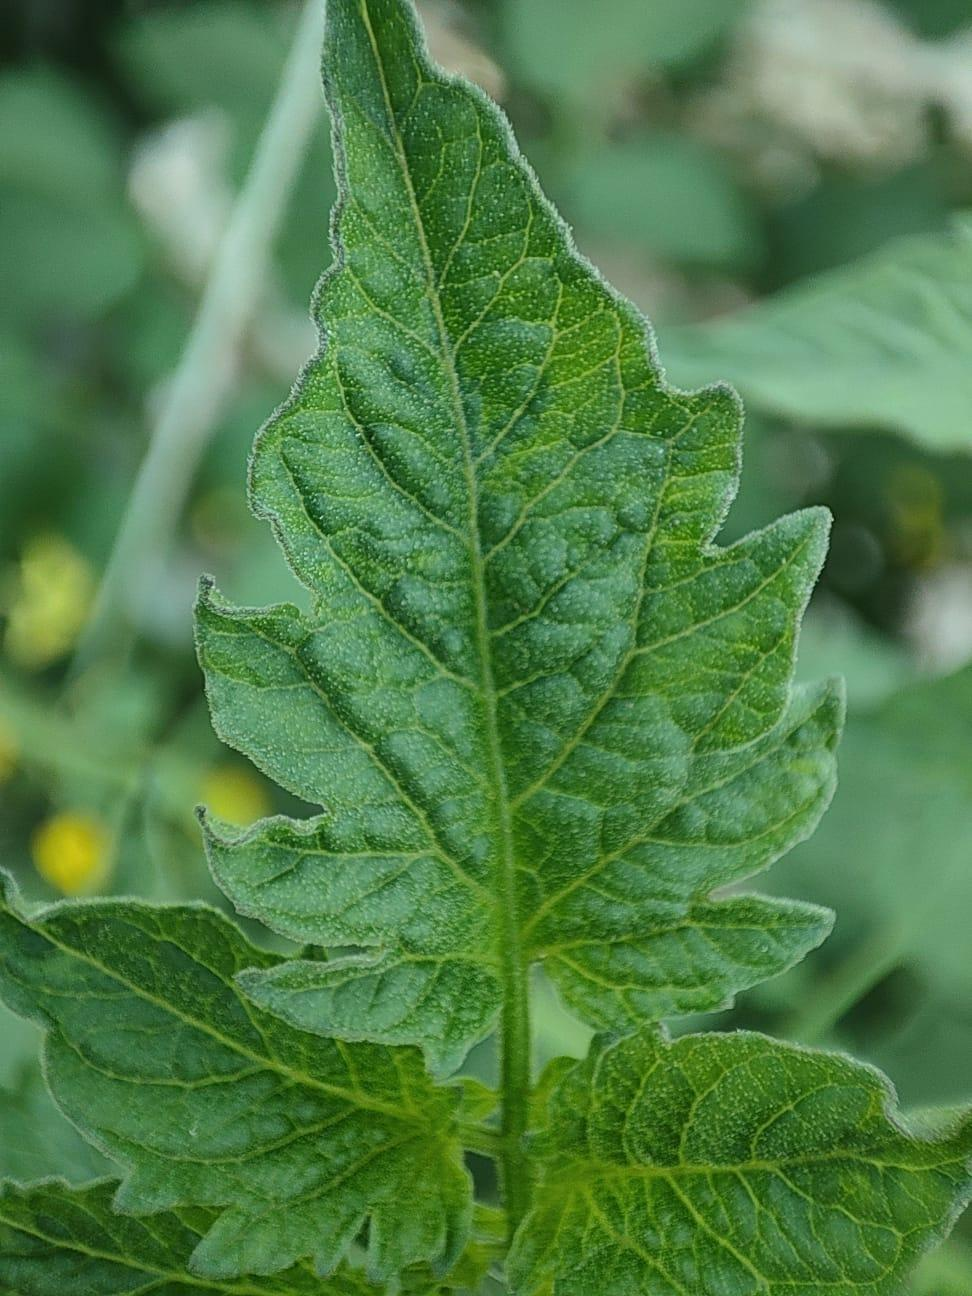Hoja rugoso: (197, 0, 840, 1137), (2, 889, 471, 1279), (506, 1031, 970, 1296)
